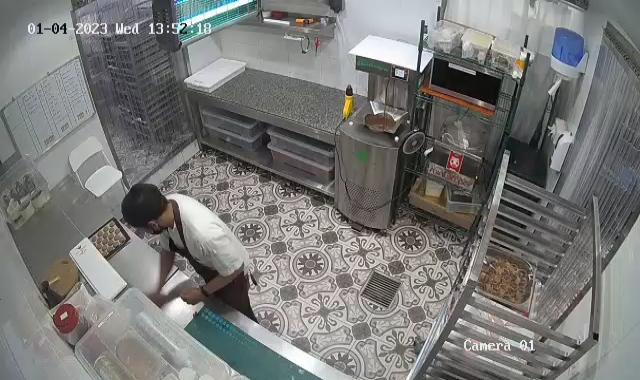no_hairnet: (123, 182, 173, 227)
